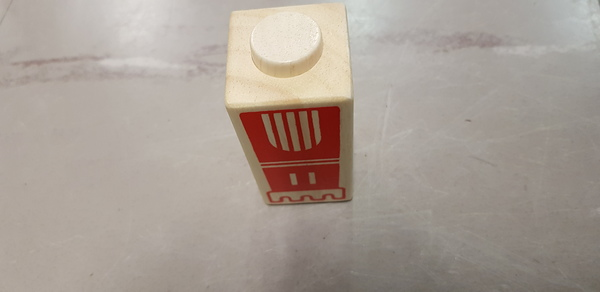tourRouge: (230, 12, 355, 209)
